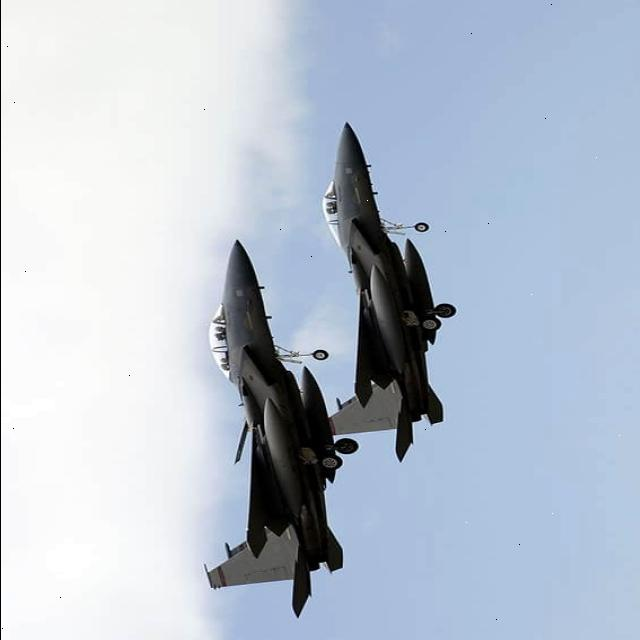F15: (144, 233, 388, 626), (298, 108, 486, 460)
